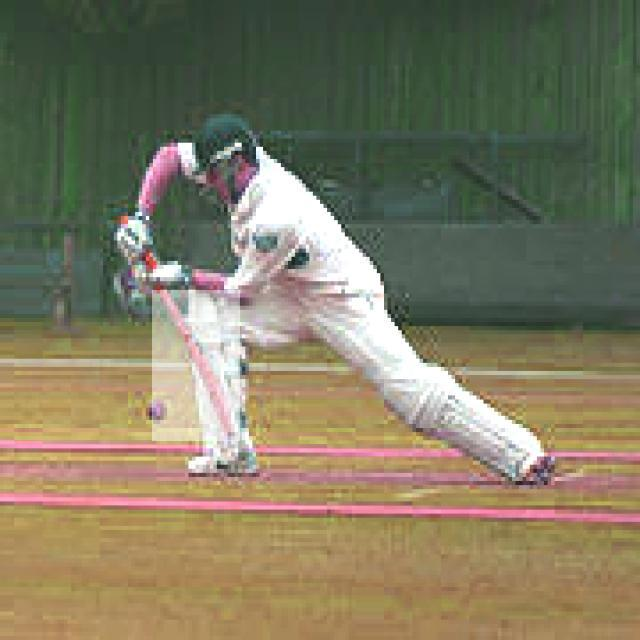bat: (150, 290, 239, 437)
